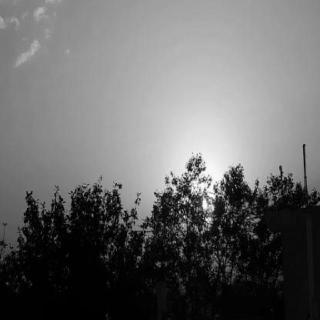other: (174, 143, 231, 225)
